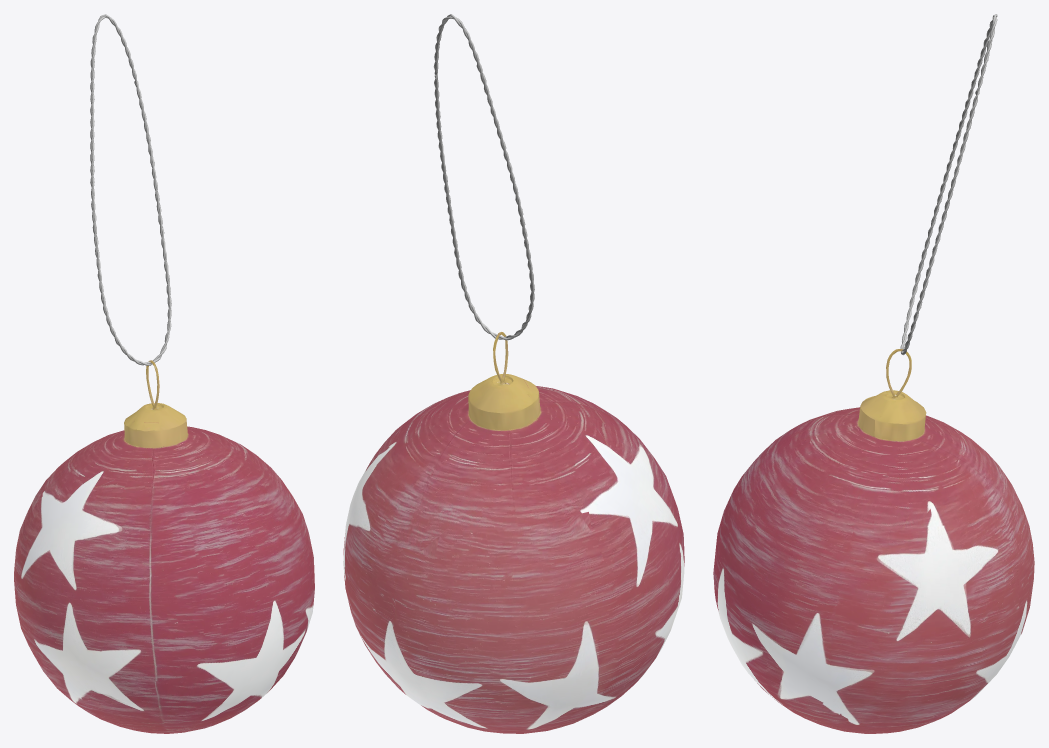
The picture shows the model from 3 angles, left to right: view 1: azimuth 30°, elevation 25°; view 2: azimuth 150°, elevation 25°; view 3: azimuth 270°, elevation 25°; orthographic projection. The views are drawn at different scales.
Parts seen in each view (by area): view 1: Mesh1.0, GN Instance; view 2: Mesh1.0, GN Instance; view 3: Mesh1.0, GN Instance.
Boxes of the visible parts, x1,y1,x2,y2 form: Mesh1.0: (14,360,314,733); GN Instance: (90,14,171,365); Mesh1.0: (343,332,684,733); GN Instance: (433,14,534,340); Mesh1.0: (713,349,1034,733); GN Instance: (900,14,997,355).
Size of the model in its own units: 0.0799 by 0.1944 by 0.0803.
2 materials, 1 textured.
